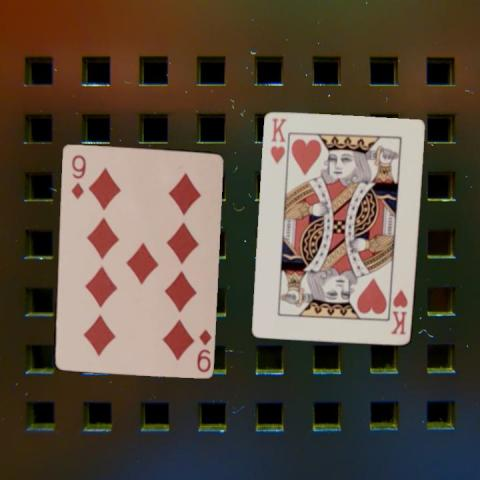9d: (68, 151, 86, 200), (194, 326, 212, 374)
Kh: (388, 286, 409, 336), (267, 116, 288, 166)
